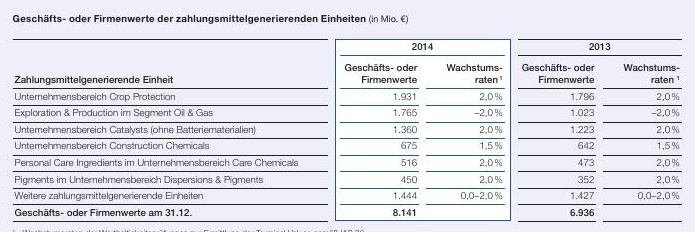table: (0, 0, 695, 232)
